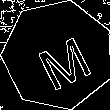M_NW: (26, 23, 90, 88)
